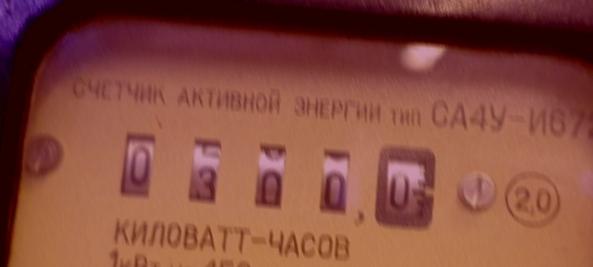0: (320, 167, 349, 212), (126, 141, 153, 188), (385, 168, 412, 212), (257, 165, 283, 208)
3: (193, 162, 218, 202)
screen: (98, 108, 458, 246)
